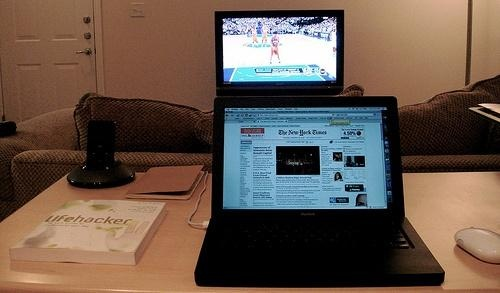sofa: (1, 73, 500, 225)
tvmonitor: (211, 9, 345, 95)
